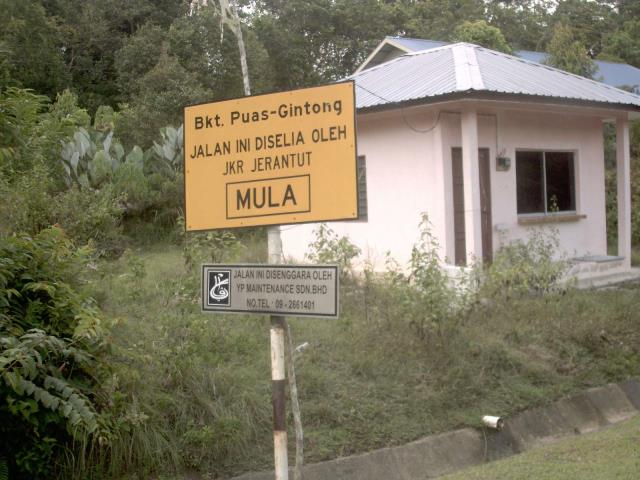ads_sign: (171, 77, 377, 246)
